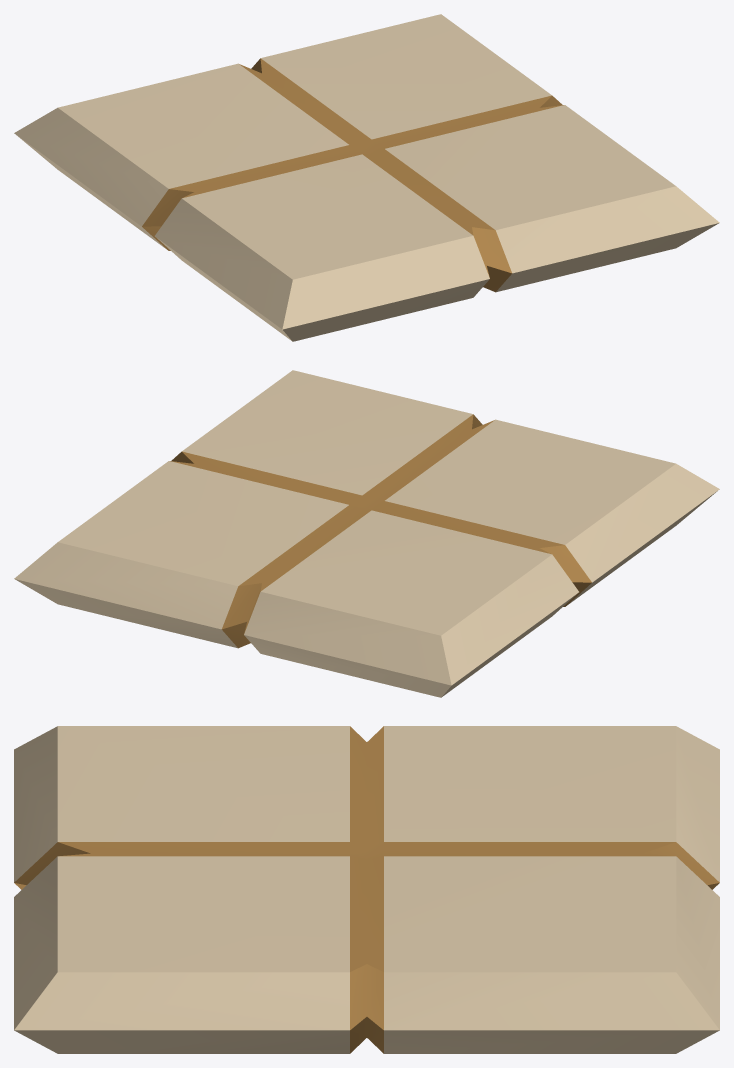
File: pave.fbx
The picture shows the model from 3 angles, top to bottom: view 1: azimuth 30°, elevation 25°; view 2: azimuth 150°, elevation 25°; view 3: azimuth 270°, elevation 25°; orthographic projection. The views are drawn at different scales.
Visible parts, largest first — view 1: pave; view 2: pave; view 3: pave.
Boxes of the visible parts, box(x1,y1,x2,y2) form: pave: box(14, 14, 719, 341); pave: box(14, 370, 719, 697); pave: box(14, 726, 719, 1053).
Size of the model in its own units: 48.33 by 6.55 by 51.34.
